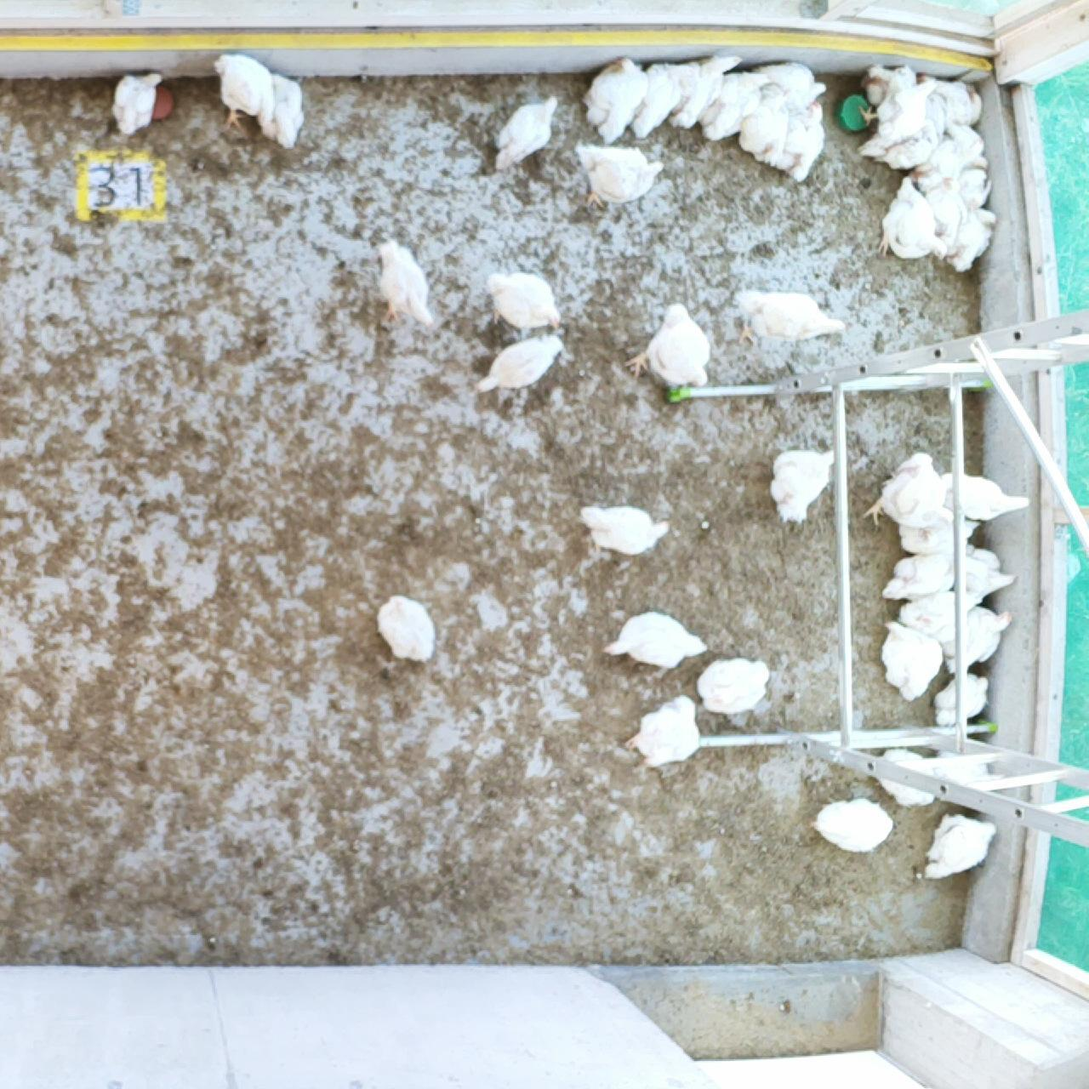chicken: (623, 298, 716, 398), (604, 608, 708, 677), (576, 497, 678, 564), (863, 449, 948, 528), (731, 285, 841, 346), (765, 441, 841, 527), (573, 141, 667, 210), (367, 234, 434, 330), (857, 75, 932, 160), (475, 330, 567, 399), (621, 687, 700, 767), (878, 174, 949, 263), (581, 53, 648, 144), (487, 93, 564, 171), (485, 261, 565, 332), (622, 61, 693, 141), (919, 815, 1001, 884), (669, 53, 743, 128), (372, 590, 441, 668), (252, 66, 310, 156), (699, 68, 770, 141), (875, 614, 936, 698), (939, 470, 1031, 525), (939, 604, 1010, 675), (811, 792, 895, 851), (697, 654, 774, 717), (771, 100, 829, 183), (215, 52, 271, 137), (737, 83, 790, 168), (880, 555, 960, 608), (109, 64, 165, 139), (897, 592, 979, 642), (875, 744, 934, 813), (953, 544, 1021, 599), (755, 61, 829, 111), (898, 505, 969, 556), (923, 170, 966, 254), (932, 671, 992, 731), (909, 137, 968, 196), (935, 742, 994, 800), (922, 72, 983, 126), (944, 197, 982, 272), (943, 117, 992, 171), (862, 60, 919, 104), (874, 138, 941, 174), (968, 204, 999, 264), (951, 165, 992, 210), (922, 86, 948, 143)
